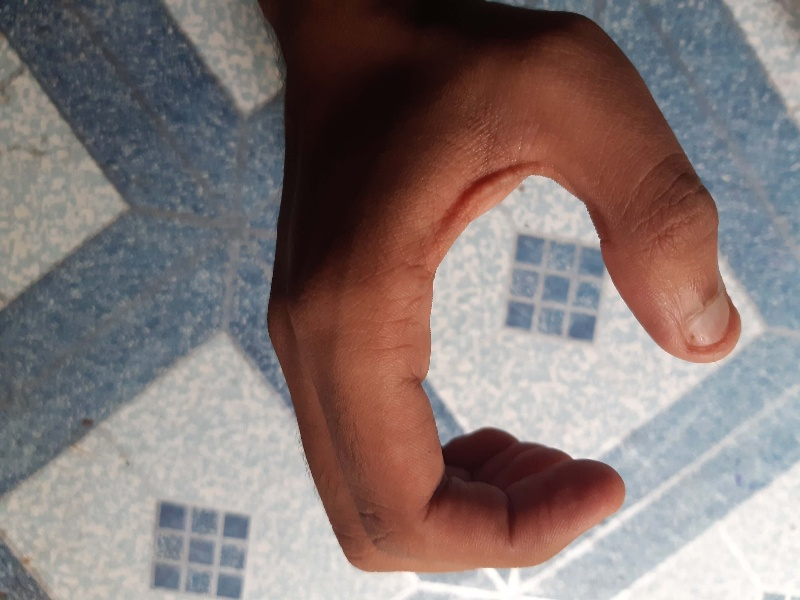one: (260, 18, 749, 589)
